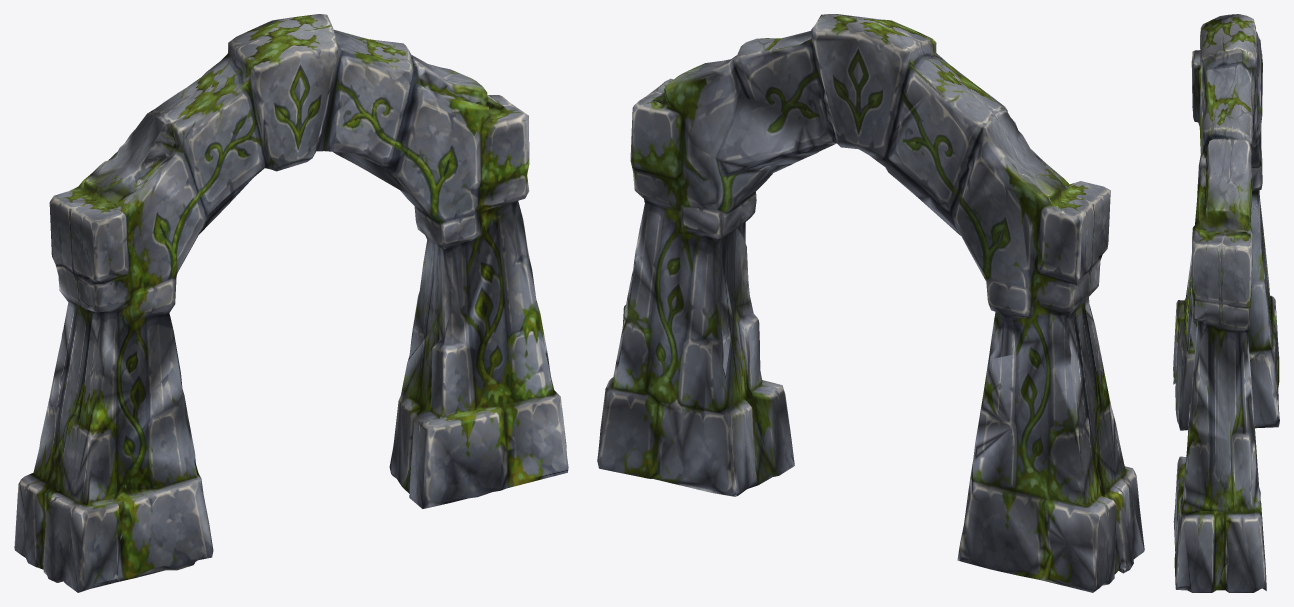
The model's file is arco_piedra_1.glb.
3 views of the same model, side by side, from view 1: azimuth 30°, elevation 25°; view 2: azimuth 150°, elevation 25°; view 3: azimuth 270°, elevation 25° (orthographic). The views are drawn at different scales.
Parts seen in each view (by area): view 1: arco_piedra_1; view 2: arco_piedra_1; view 3: arco_piedra_1.
Boxes of the visible parts, bbox=[...] form: arco_piedra_1: bbox=[14, 14, 568, 592]; arco_piedra_1: bbox=[597, 14, 1144, 592]; arco_piedra_1: bbox=[1173, 14, 1279, 592].
Bounding box in the file's own units: 8 × 7.5 × 1.6.
1 material, 1 textured.
